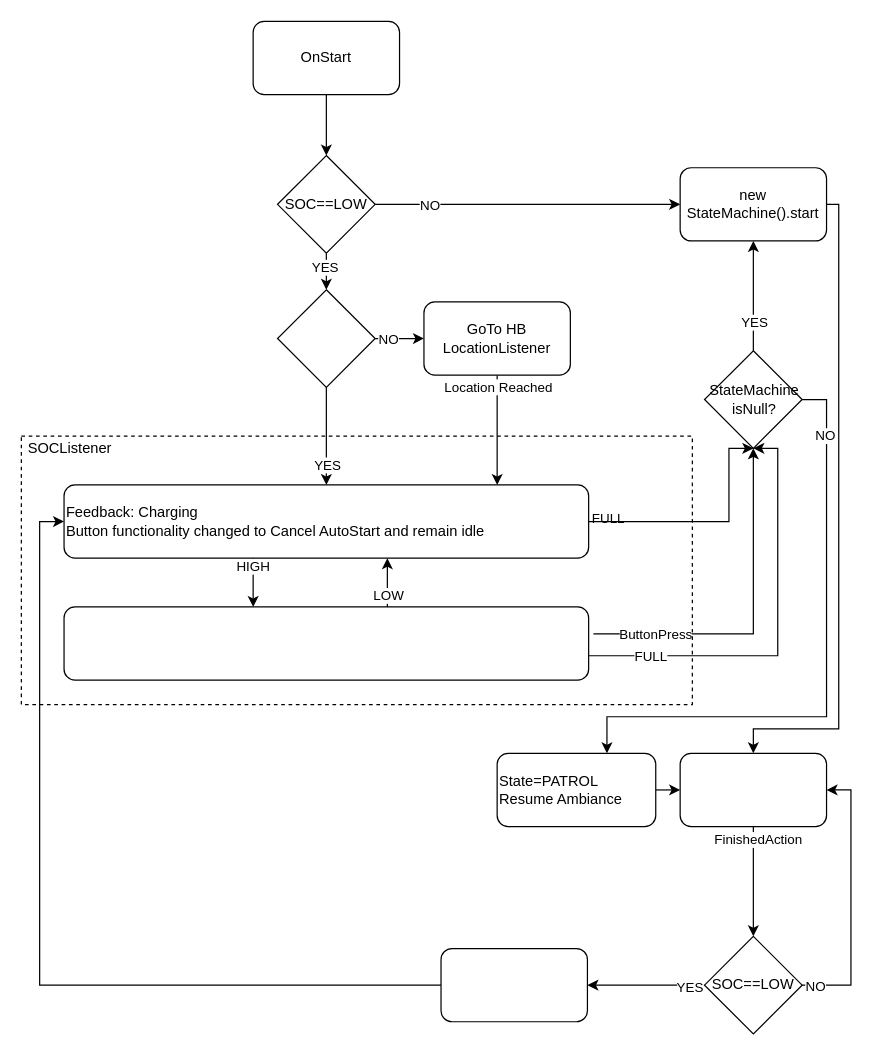
The diagram is 882 pixels wide and 1055 high, and some of its shapes have lost their labels. Here are the shapes that lost their labels. From the top down, the centre of each, then its label:
At point (325, 338): "CHARGING".
At point (326, 643): "Feedback: Charging Button functionality changed to StartNow".
At point (753, 789): "PATROL".
At point (513, 984): "Stop Ambience State=RETURNING wait() LocationListener".
